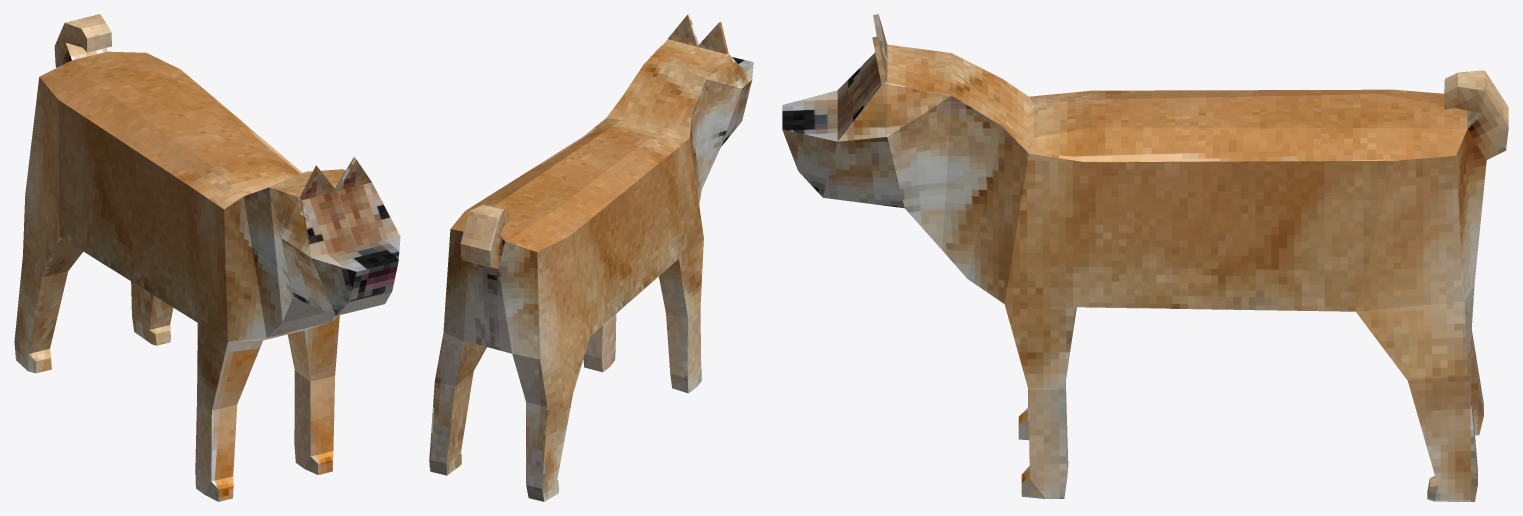
File: dog.fbx
The picture shows the model from 3 angles, left to right: view 1: azimuth 30°, elevation 25°; view 2: azimuth 150°, elevation 25°; view 3: azimuth 270°, elevation 25°; orthographic projection. The views are drawn at different scales.
Visible parts, largest first — view 1: pes; view 2: pes; view 3: pes.
Boxes of the visible parts, <box> form: pes: <box>14,14,400,501</box>; pes: <box>429,14,753,501</box>; pes: <box>782,14,1508,501</box>.
Size of the model in its own units: 22.37 by 54.65 by 81.88.
